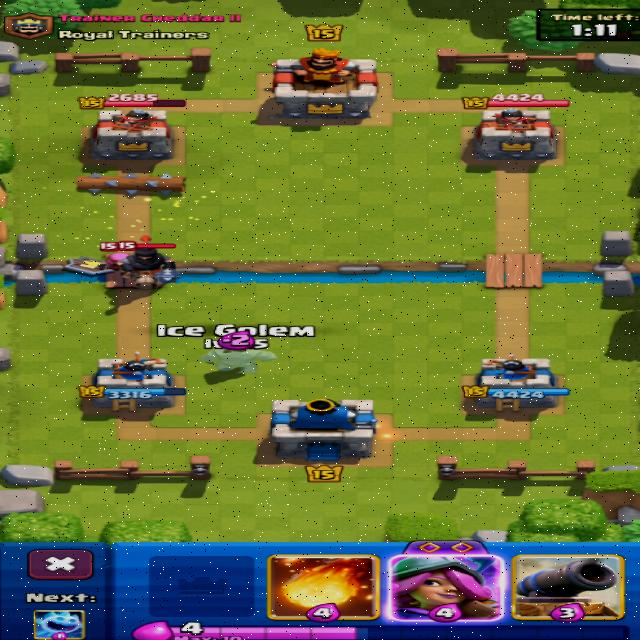Enemy-DarkPrince: (117, 235, 179, 290)
Enemy-Firecracker: (95, 242, 127, 272)
Enemy-KingTower: (269, 48, 377, 119)
Enemy-PrincessTower: (473, 108, 556, 165), (92, 109, 172, 161)
Player-KingTower: (271, 398, 377, 461)
Player-PrincessTower: (79, 352, 185, 409), (464, 359, 567, 411)
